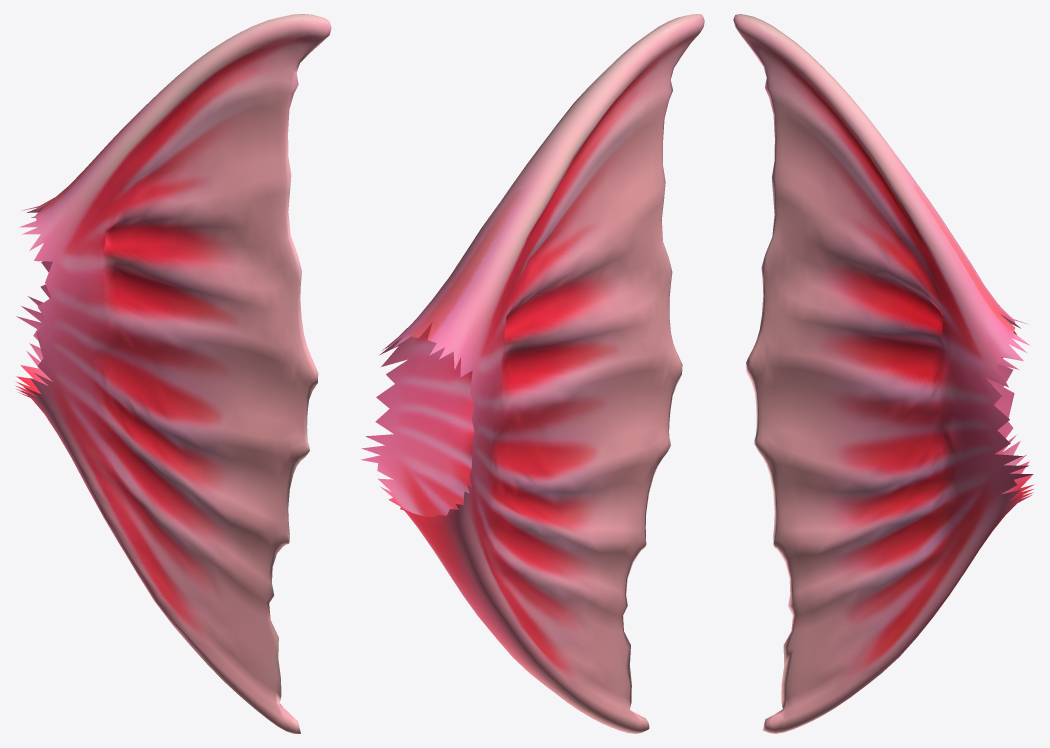
Rendered from Aleta.obj.
3 views of the same model, side by side, from view 1: azimuth 90°, elevation 25°; view 2: azimuth 150°, elevation 25°; view 3: azimuth 270°, elevation 25° (orthographic). The views are drawn at different scales.
Parts seen in each view (by area): view 1: Aleta; view 2: Aleta; view 3: Aleta.
Part boxes in pixels (bbox=[...]): Aleta: bbox=[15, 14, 331, 733]; Aleta: bbox=[360, 14, 704, 733]; Aleta: bbox=[733, 14, 1034, 733].
Size of the model in its own units: 12.94 by 45.76 by 17.9.
